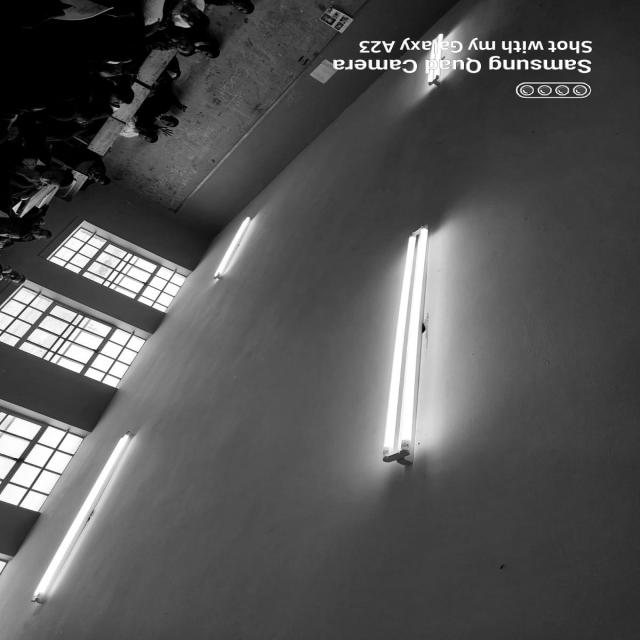light: (24, 426, 158, 614), (381, 224, 429, 464), (213, 216, 252, 279)
